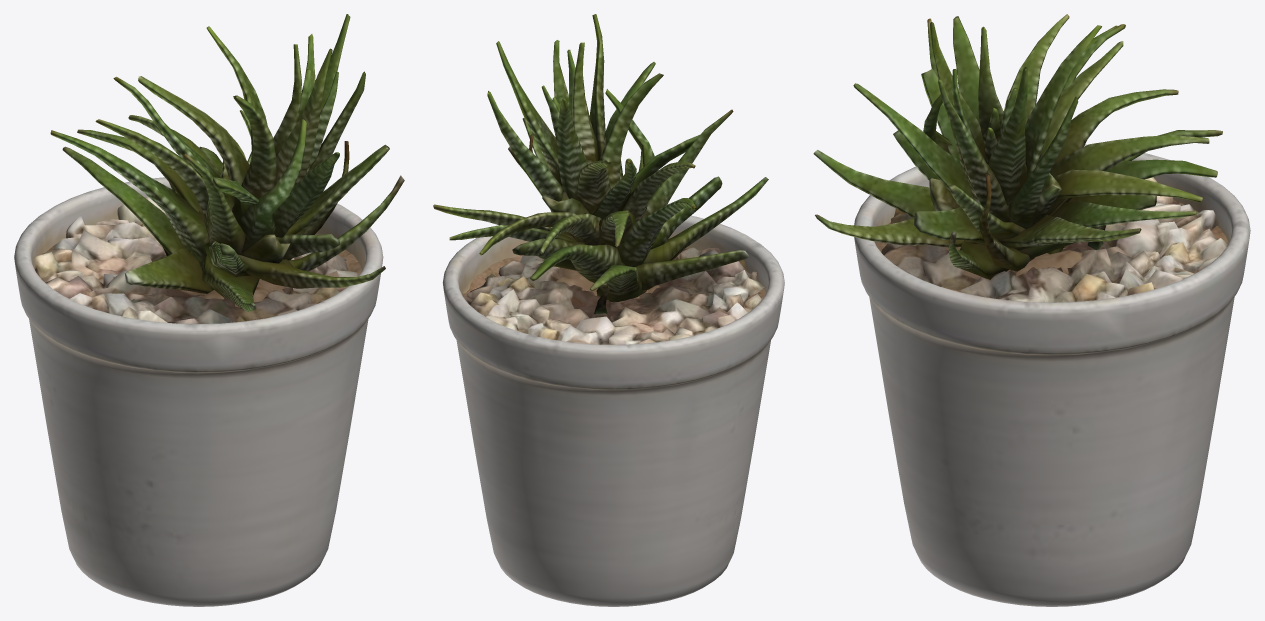
The model's file is potted_plant_04.glb.
3 views of the same model, side by side, from view 1: azimuth 30°, elevation 25°; view 2: azimuth 150°, elevation 25°; view 3: azimuth 270°, elevation 25° (orthographic). The views are drawn at different scales.
Parts seen in each view (by area): view 1: potted_plant_04_ground; view 2: potted_plant_04_ground; view 3: potted_plant_04_ground.
Boxes of the visible parts, box(x1,y1,x2,y2) form: potted_plant_04_ground: box(14, 14, 404, 606); potted_plant_04_ground: box(433, 14, 784, 606); potted_plant_04_ground: box(813, 14, 1250, 606).
Size of the model in its own units: 0.1679 by 0.2675 by 0.1847.
1 material, 1 textured.
